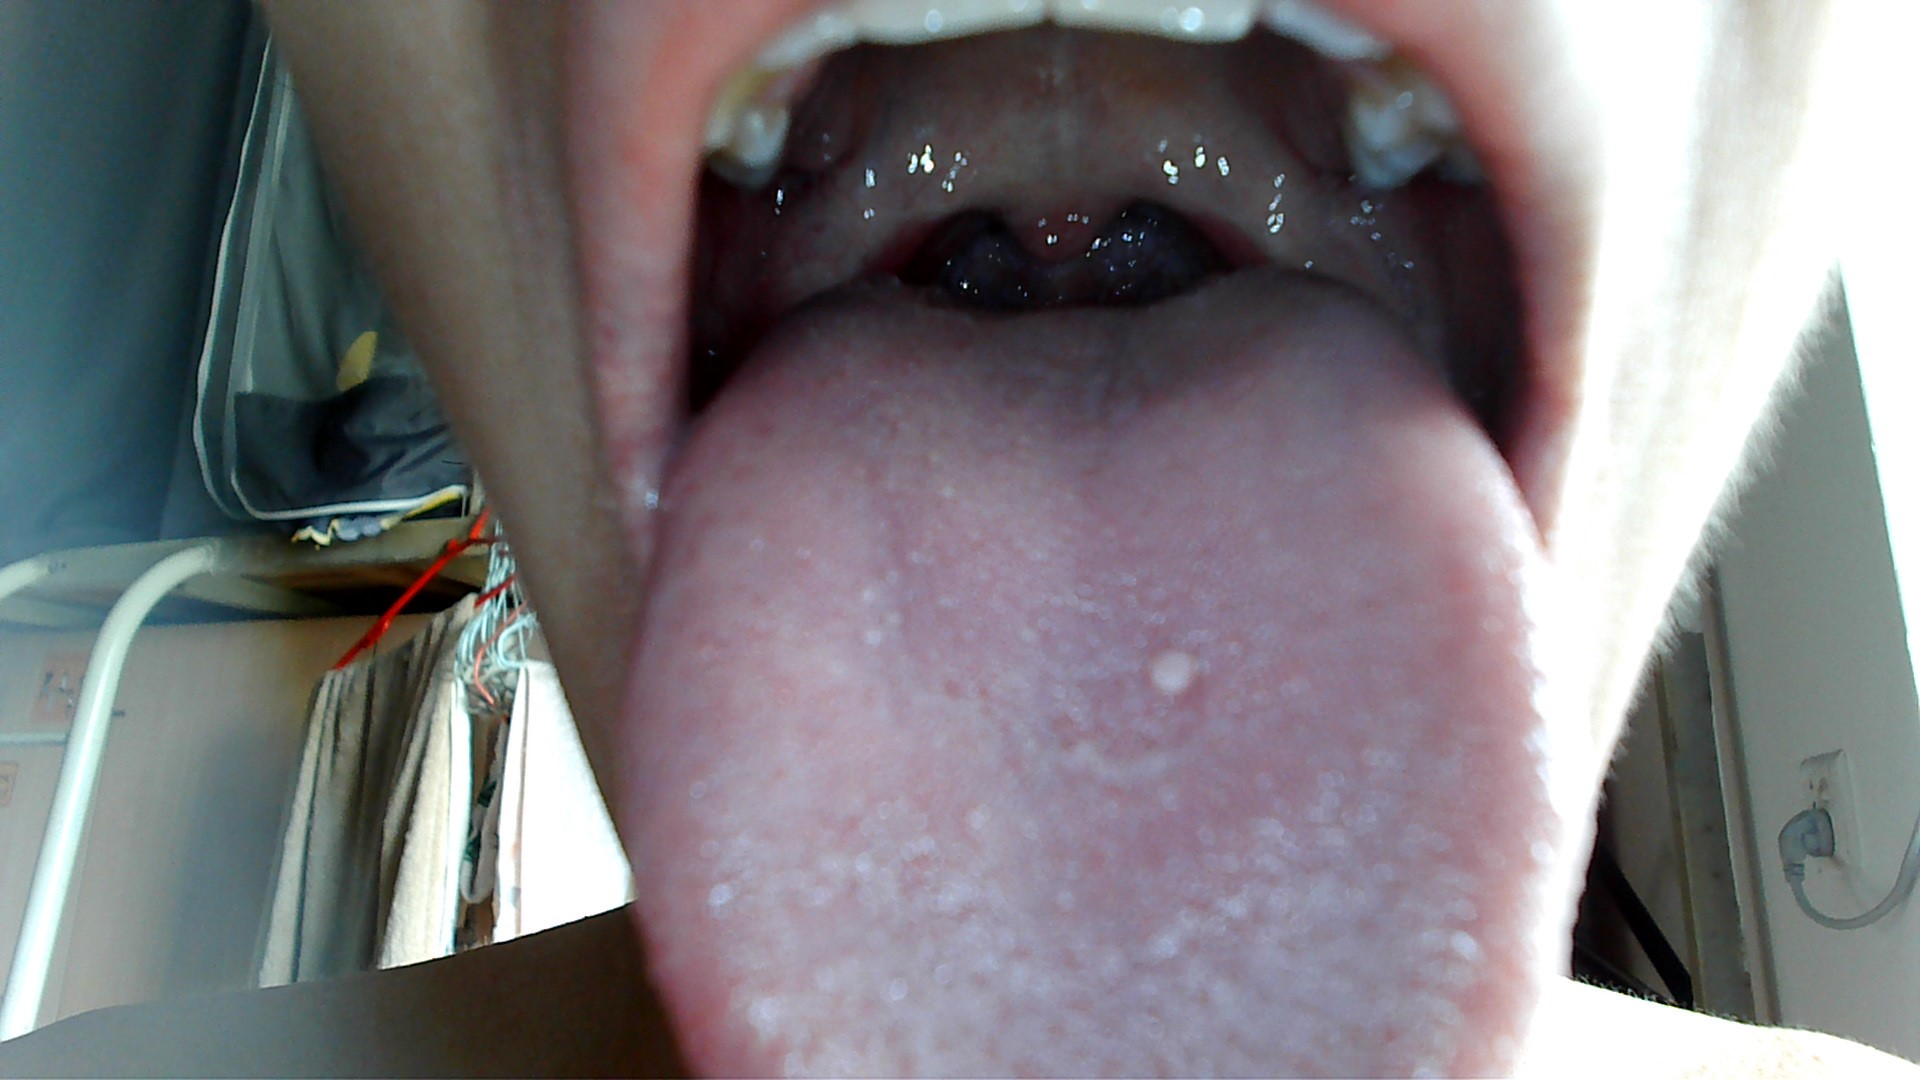throat: (1193, 152, 1335, 268), (786, 175, 926, 280)
